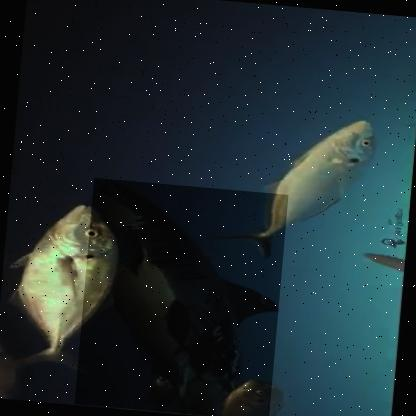white-shark: (72, 177, 288, 415)
